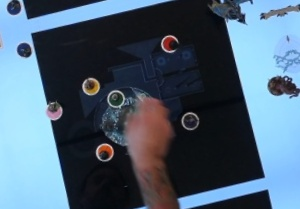blue: (11, 39, 34, 61)
green: (103, 86, 127, 109)
orange: (90, 139, 118, 163)
pink: (39, 99, 65, 124)
red: (158, 31, 182, 55)
violet: (178, 107, 203, 133)
yellow: (78, 74, 102, 99)
